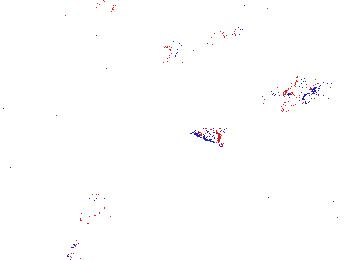X-ray fish: (90, 49, 119, 89)
glassfish: (70, 163, 123, 254), (192, 121, 288, 152)
red belly glassfish: (257, 92, 294, 113), (283, 84, 316, 103)
redtail glassfish: (162, 23, 246, 63)
